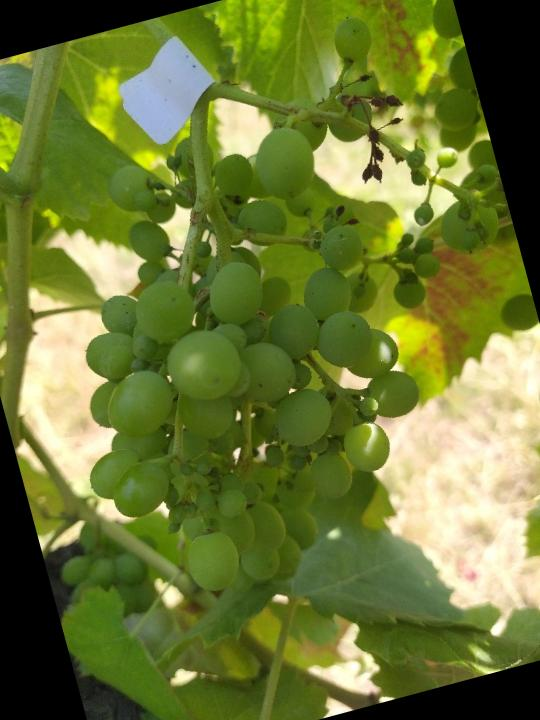grape: (0, 0, 540, 623)
